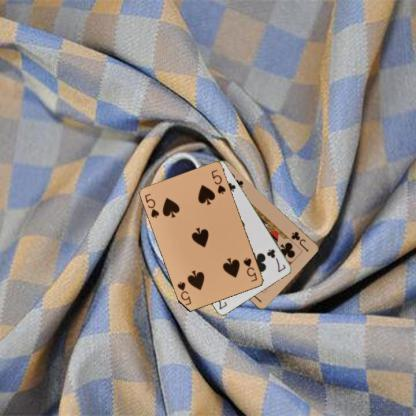5s: (142, 191, 161, 220), (241, 255, 258, 283)
7c: (265, 246, 287, 273)
Jc: (289, 229, 310, 253)
